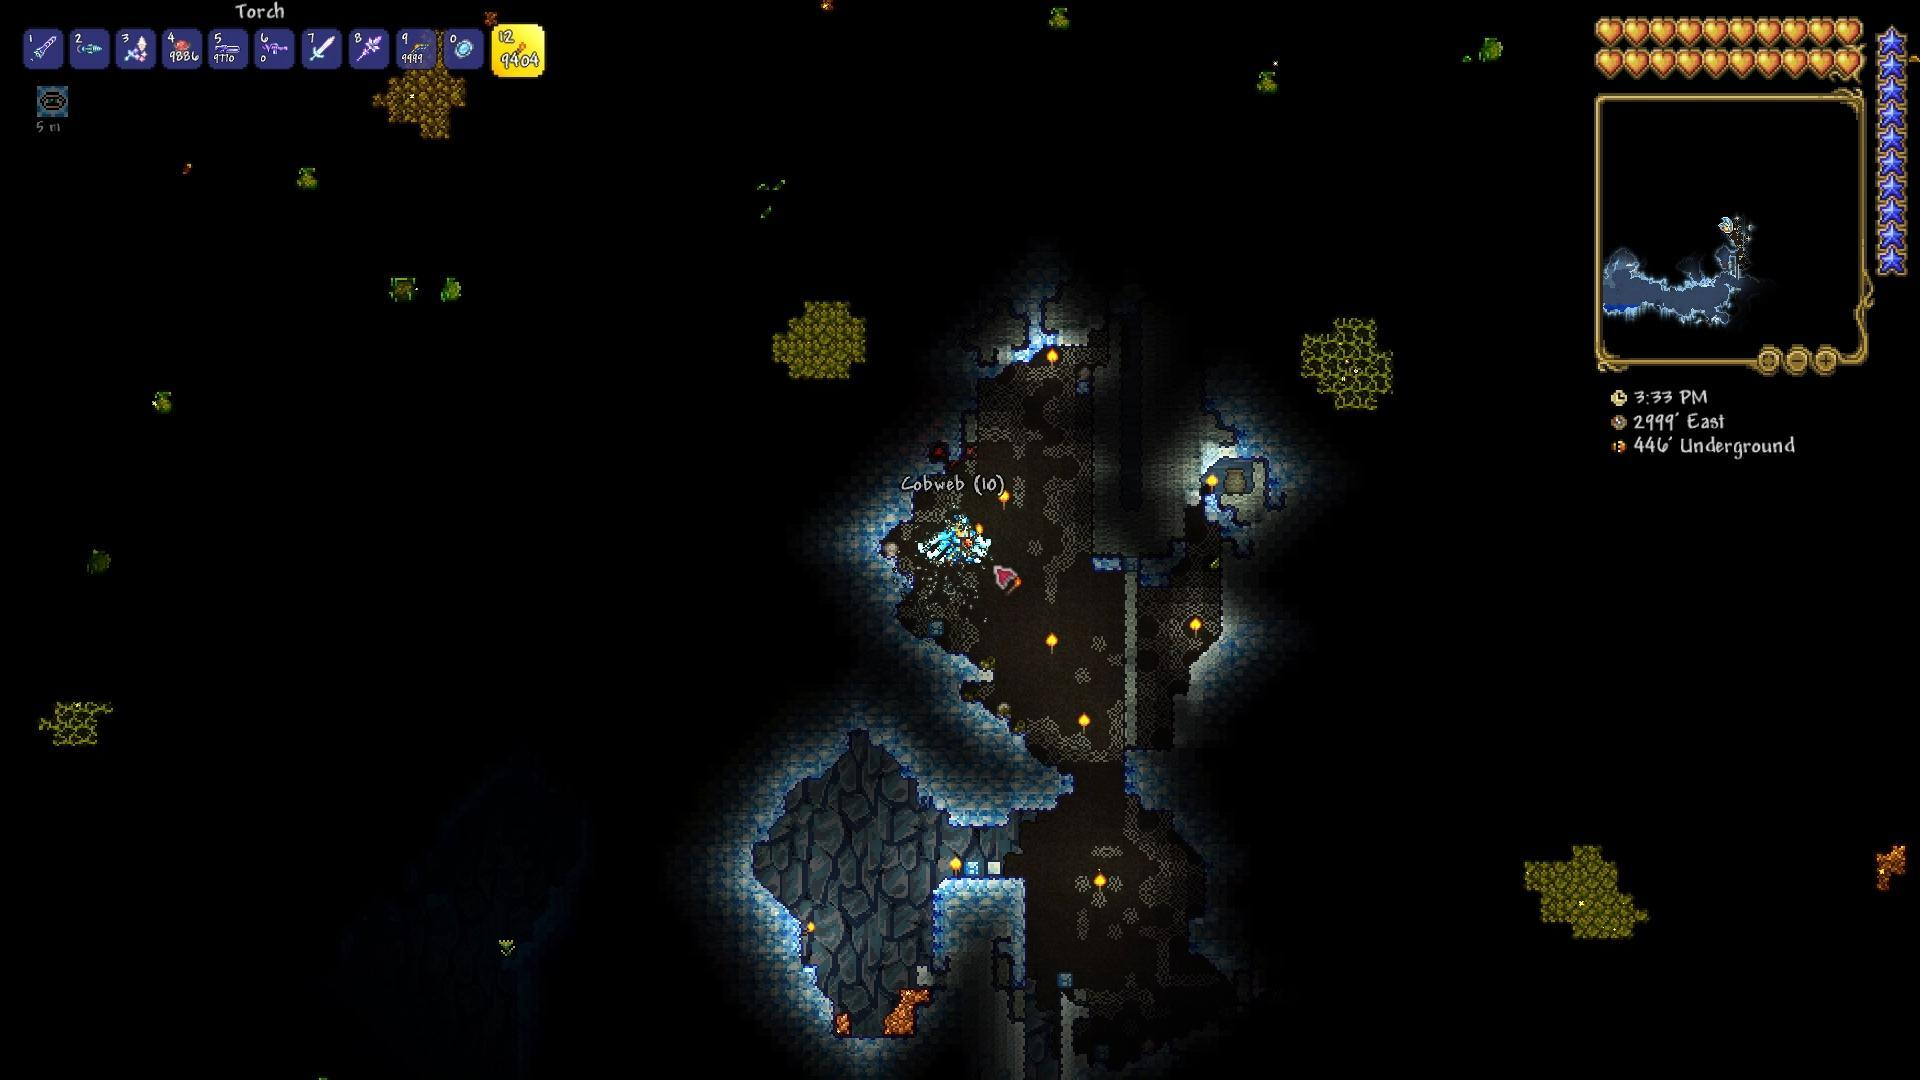cobwebT: (978, 386, 1029, 443), (1027, 713, 1064, 761), (1047, 477, 1087, 520), (1044, 558, 1063, 600), (1023, 533, 1043, 558)
